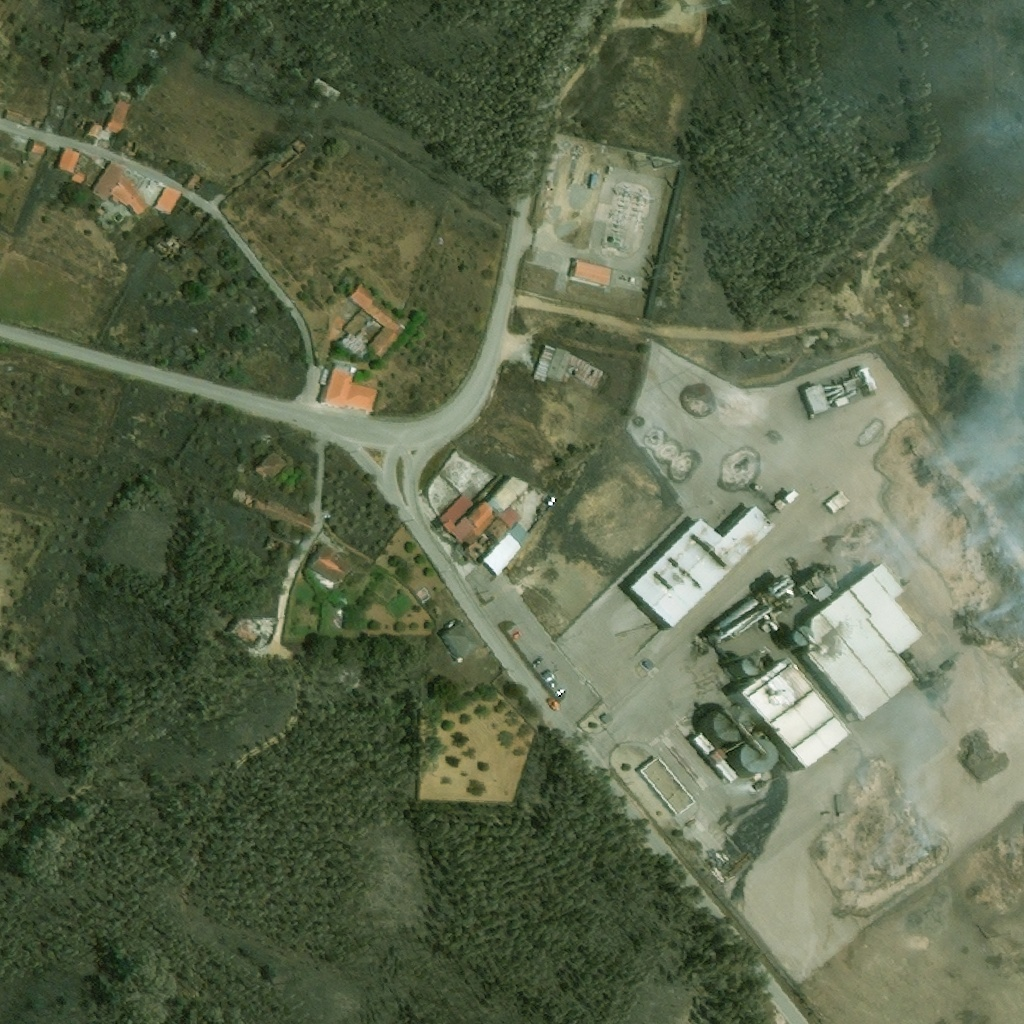0 no-damage: (629, 503, 776, 629), (727, 658, 854, 773), (807, 589, 916, 720), (436, 477, 532, 578), (850, 561, 924, 654), (348, 283, 409, 358), (799, 654, 860, 722), (637, 757, 695, 816), (532, 344, 604, 389), (318, 371, 380, 411), (703, 704, 753, 749), (306, 538, 353, 585), (725, 739, 779, 779), (692, 734, 736, 780), (438, 621, 480, 663), (111, 174, 147, 215), (342, 308, 381, 344), (570, 258, 612, 288), (92, 160, 125, 198), (799, 382, 831, 416), (309, 73, 342, 103), (255, 451, 287, 478), (105, 100, 130, 133), (340, 333, 369, 359), (155, 187, 181, 215), (906, 657, 931, 684), (57, 146, 81, 173), (726, 661, 754, 682), (825, 490, 849, 514), (812, 579, 834, 602), (742, 655, 763, 675), (792, 626, 809, 645), (30, 139, 47, 155), (87, 121, 103, 138), (585, 174, 598, 192), (71, 170, 87, 184), (594, 175, 605, 193), (319, 368, 330, 385)
3 destroyed: (263, 136, 307, 175), (265, 502, 310, 531), (230, 618, 260, 645), (270, 536, 293, 551), (260, 617, 276, 635)
4 un-classified: (148, 22, 173, 45)
